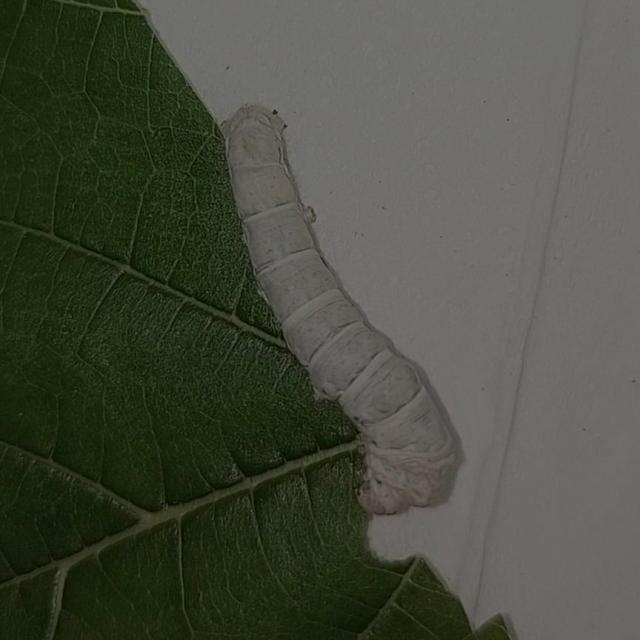Healthy: (204, 93, 484, 527)
